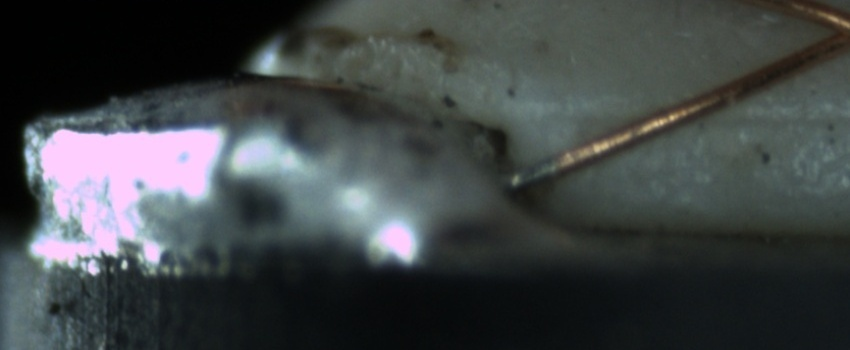CL: (797, 4, 850, 61)
DL: (538, 85, 850, 148)
TS: (506, 154, 561, 190)
